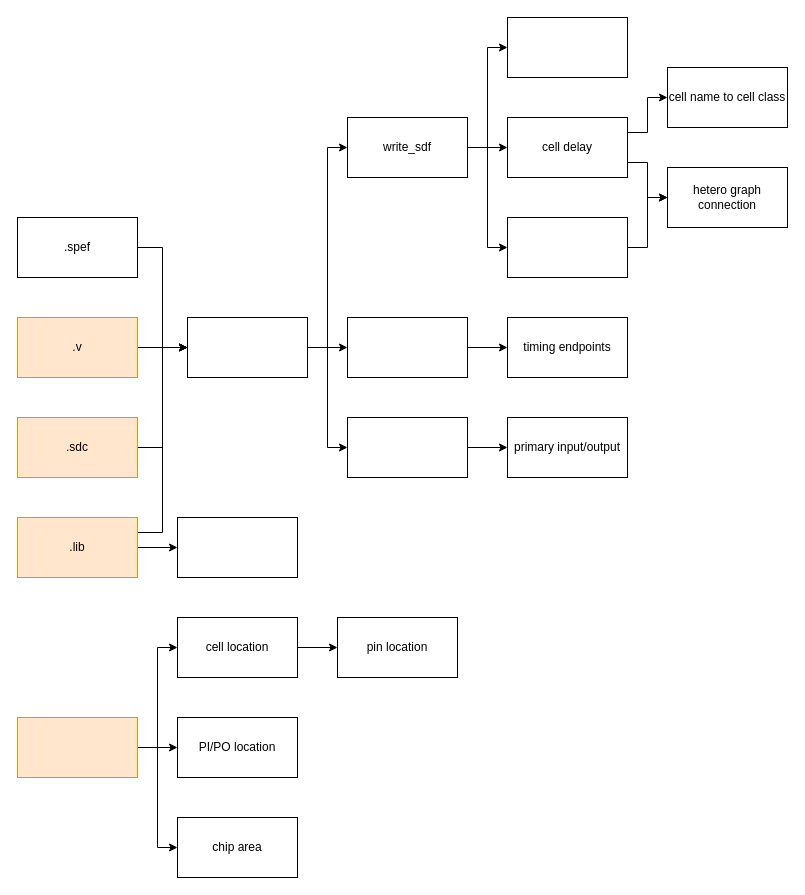
This 805x895 diagram has some shape labels left out. Each missing label, with the centre of its shape:
.def: (77,747)
AT RAT Slew for each pin: (567,47)
get_ports: (407,447)
LUT information: (237,547)
net delay: (567,247)
OpenSTA: (247,347)
report_checks: (407,347)
